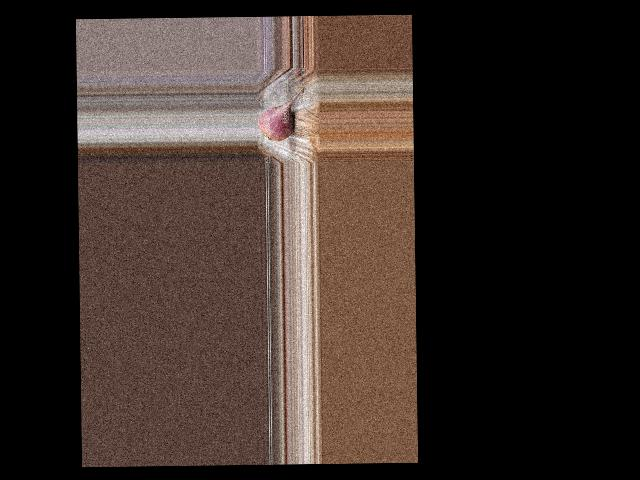beet: (257, 87, 304, 141)
